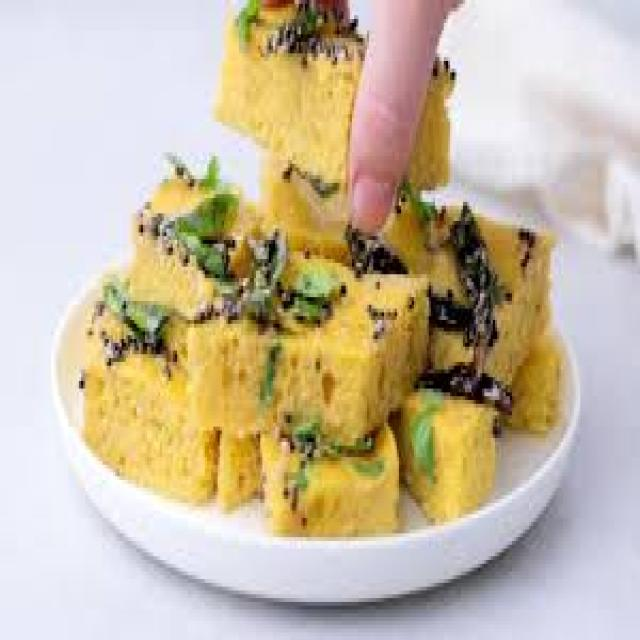DHOKLA: (198, 249, 425, 428), (385, 209, 549, 409), (78, 295, 211, 503), (125, 147, 264, 324), (267, 435, 402, 535), (403, 380, 490, 528)
